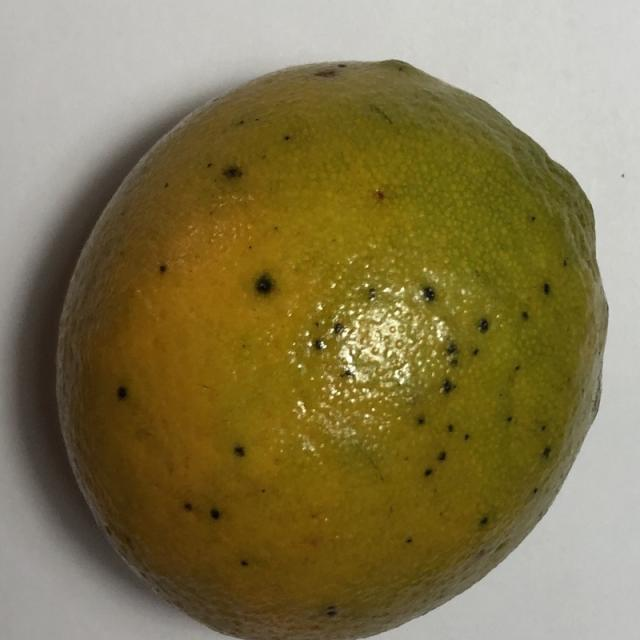blackspot: (34, 52, 626, 640)
